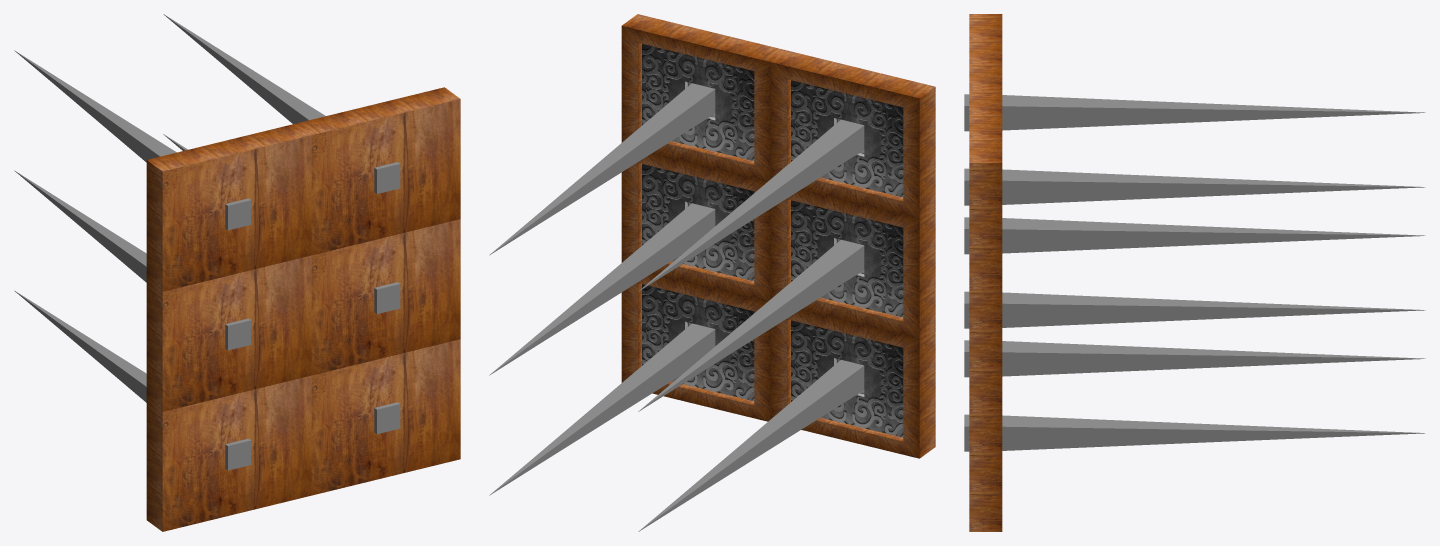
Rendered from spike-tramp-group.FBX.
The picture shows the model from 3 angles, left to right: view 1: azimuth 30°, elevation 25°; view 2: azimuth 150°, elevation 25°; view 3: azimuth 270°, elevation 25°; orthographic projection. The views are drawn at different scales.
Parts seen in each view (by area): view 1: Box006, Box010, Box007, Box008, Box011, Box009, Pinchos; view 2: Pinchos, Box006, Box010, Box008, Box007, Box009, Box011; view 3: Pinchos, Box010, Box009, Box011, Box006.
Boxes of the visible parts, bbox=[...] form: Box006: bbox=[146, 123, 311, 291]; Box010: bbox=[296, 87, 460, 255]; Box007: bbox=[146, 255, 311, 411]; Box008: bbox=[146, 375, 311, 531]; Box011: bbox=[311, 339, 460, 495]; Box009: bbox=[311, 219, 460, 375]; Pinchos: bbox=[14, 14, 400, 470]; Pinchos: bbox=[489, 83, 864, 531]; Box006: bbox=[770, 50, 935, 218]; Box010: bbox=[621, 14, 785, 181]; Box008: bbox=[770, 309, 935, 458]; Box007: bbox=[770, 189, 935, 338]; Box009: bbox=[621, 153, 770, 301]; Box011: bbox=[621, 273, 770, 421]; Pinchos: bbox=[964, 94, 1425, 451]; Box010: bbox=[969, 88, 1002, 285]; Box009: bbox=[969, 286, 1002, 408]; Box011: bbox=[969, 409, 1002, 531]; Box006: bbox=[969, 14, 1002, 88].
Size of the model in its own units: 25.41 by 29.36 by 33.26.
